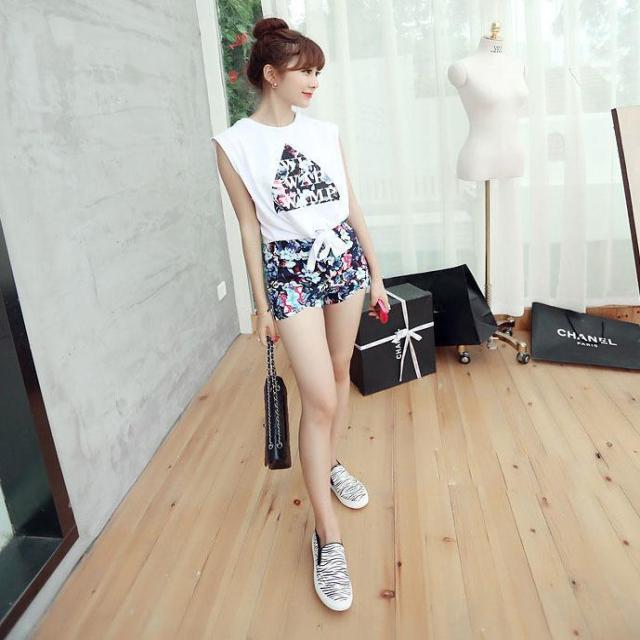shorts: (265, 217, 372, 320)
vest: (212, 112, 347, 243)
